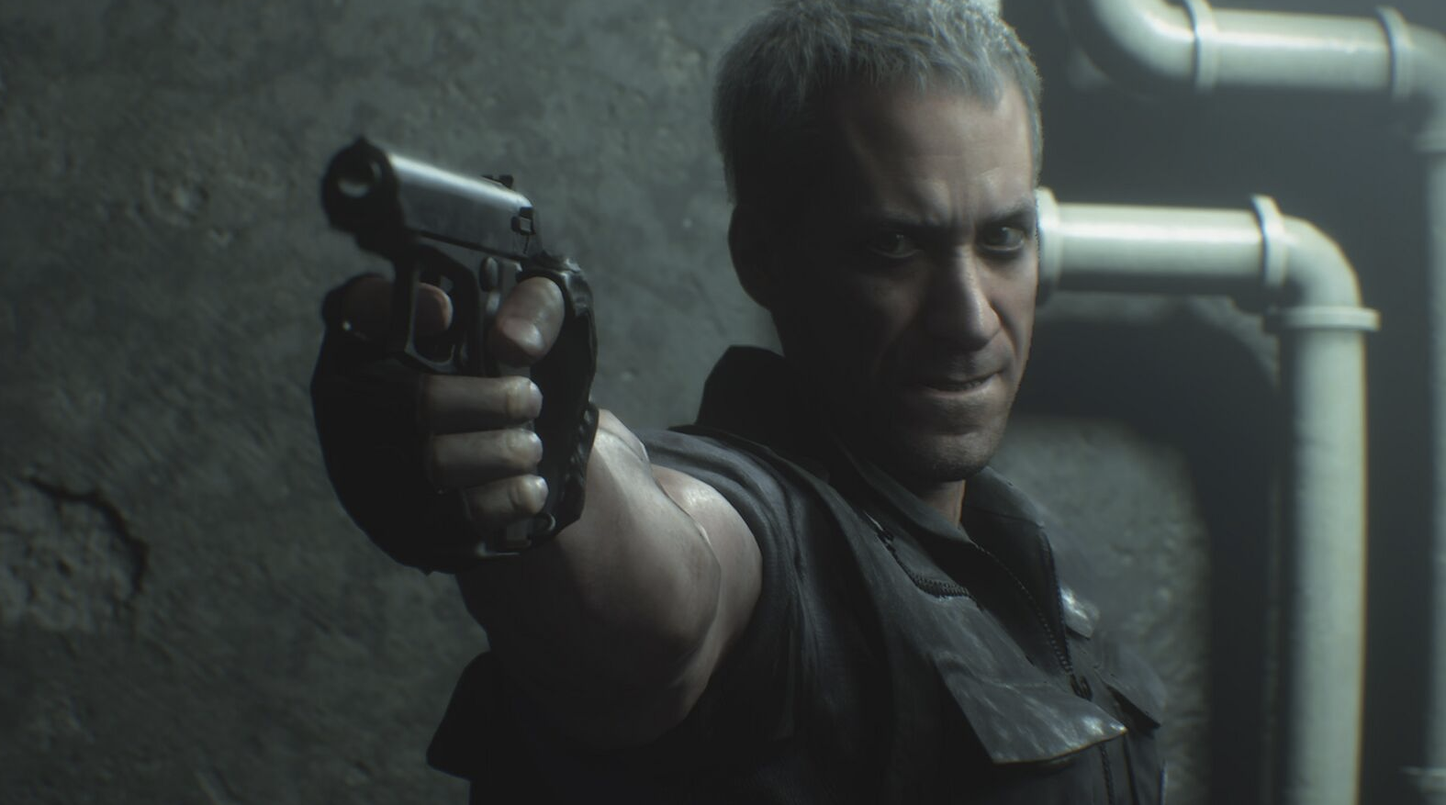gun_013: (298, 129, 611, 560)
